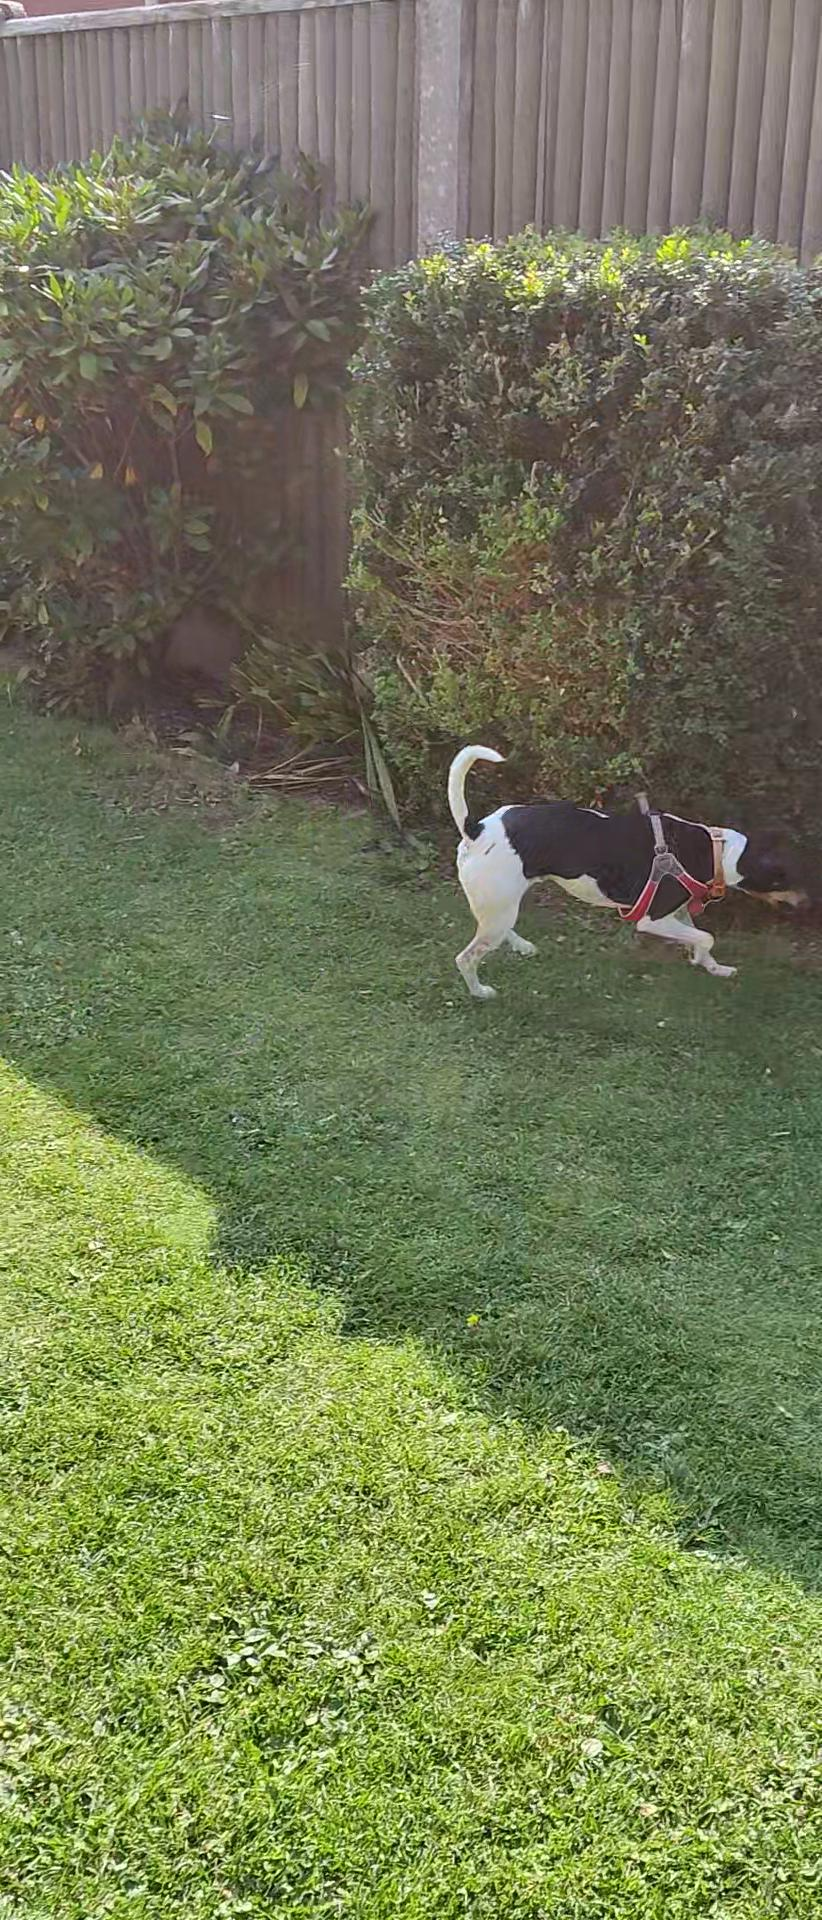Dog: (432, 732, 821, 1011)
